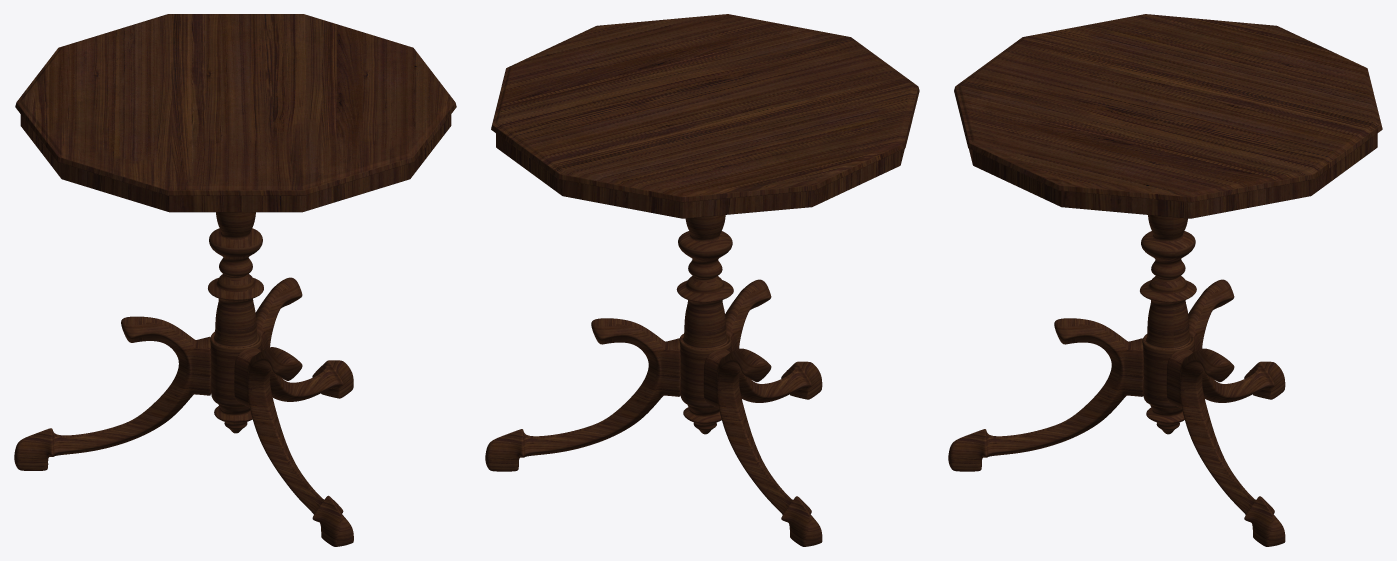
Rendered from kisasztal.glb.
The picture shows the model from 3 angles, left to right: view 1: azimuth 30°, elevation 25°; view 2: azimuth 150°, elevation 25°; view 3: azimuth 270°, elevation 25°; orthographic projection.
Parts seen in each view (by area): view 1: kisasztal; view 2: kisasztal; view 3: kisasztal.
Boxes of the visible parts, x1,y1,x2,y2 form: kisasztal: (14, 14, 456, 546); kisasztal: (485, 14, 919, 546); kisasztal: (948, 14, 1382, 546).
Size of the model in its own units: 0.8802 by 0.81 by 0.8773.
Materials: 1 (1 with a texture image).
